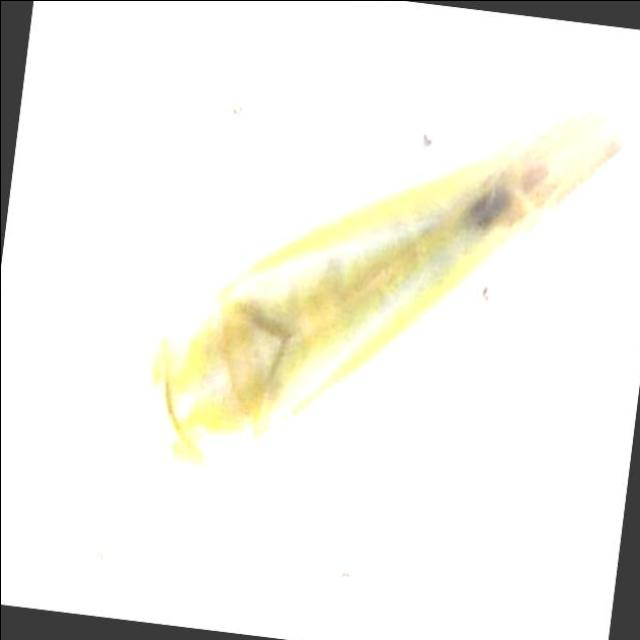green leaf hopper: (154, 122, 618, 462)
